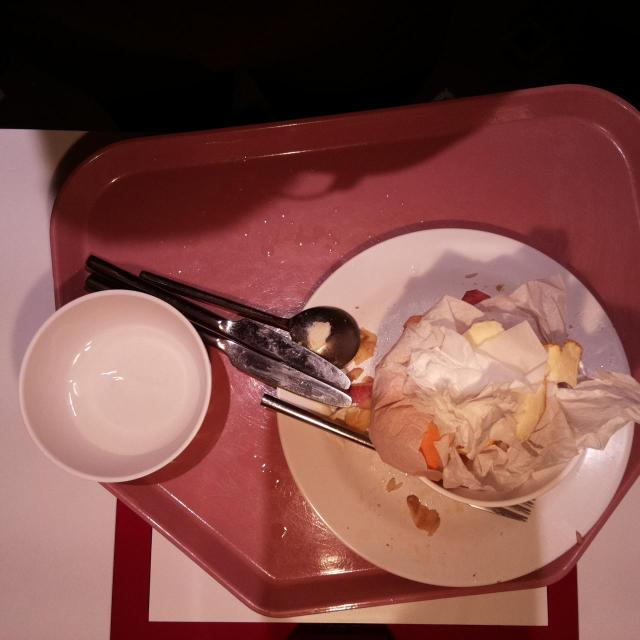Orange-peel: (367, 409, 453, 473), (505, 376, 549, 444), (542, 337, 586, 387)
